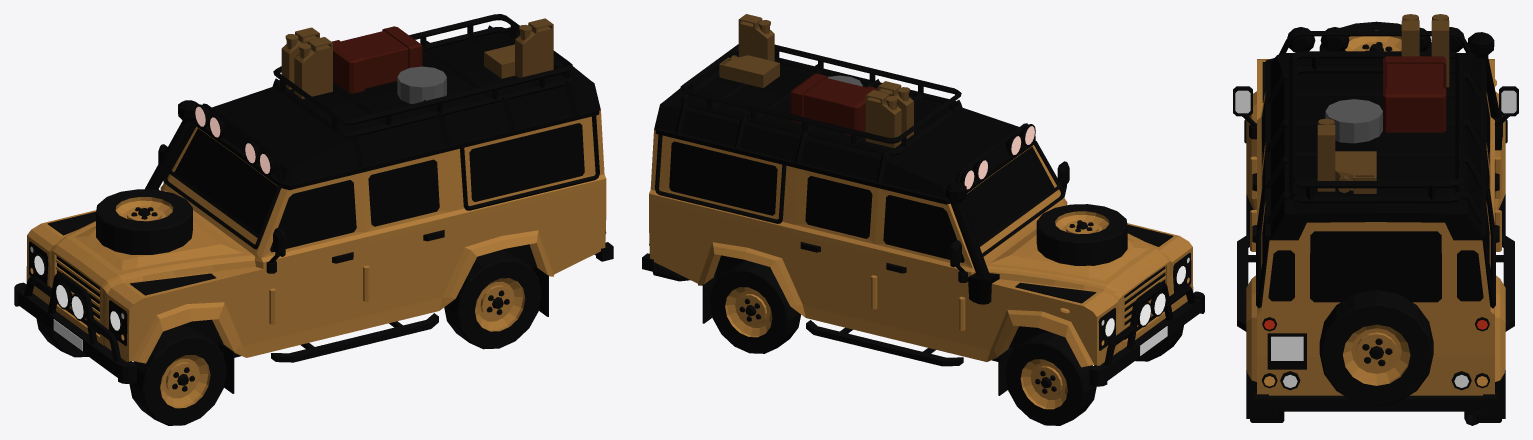
File: off-road.glb
The picture shows the model from 3 angles, left to right: view 1: azimuth 30°, elevation 25°; view 2: azimuth 150°, elevation 25°; view 3: azimuth 270°, elevation 25°; orthographic projection. The views are drawn at different scales.
Parts seen in each view (by area): view 1: landy, roofRack, lfWheel.003, lfWheel.002, bullBar, bonnetPlates, snorkel, rfWheel.003; view 2: landy, roofRack, rfWheel.003, rrWheel.001, snorkel, bullBar, bonnetPlates, lfWheel.003; view 3: landy, roofRack, snorkel.
Part boxes in pixels (x1,y1,x2,y2): landy: (14,27,613,393); roofRack: (163,14,599,249); lfWheel.003: (129,326,226,425); lfWheel.002: (444,249,541,349); bullBar: (24,273,121,362); bonnetPlates: (47,211,216,295); snorkel: (145,100,198,189); rfWheel.003: (36,318,88,357); landy: (642,51,1204,395); roofRack: (655,14,1065,256); rfWheel.003: (1005,332,1096,425); rrWheel.001: (709,260,800,353); snorkel: (945,182,999,304); bullBar: (1104,282,1195,365); bonnetPlates: (1015,224,1173,303); lfWheel.003: (1135,325,1183,361); landy: (1233,21,1518,425); roofRack: (1256,14,1495,308); snorkel: (1467,32,1502,150).
Bounding box in the file's own units: 3.88 × 2.05 × 1.61.
Materials: 3 (2 with a texture image).
